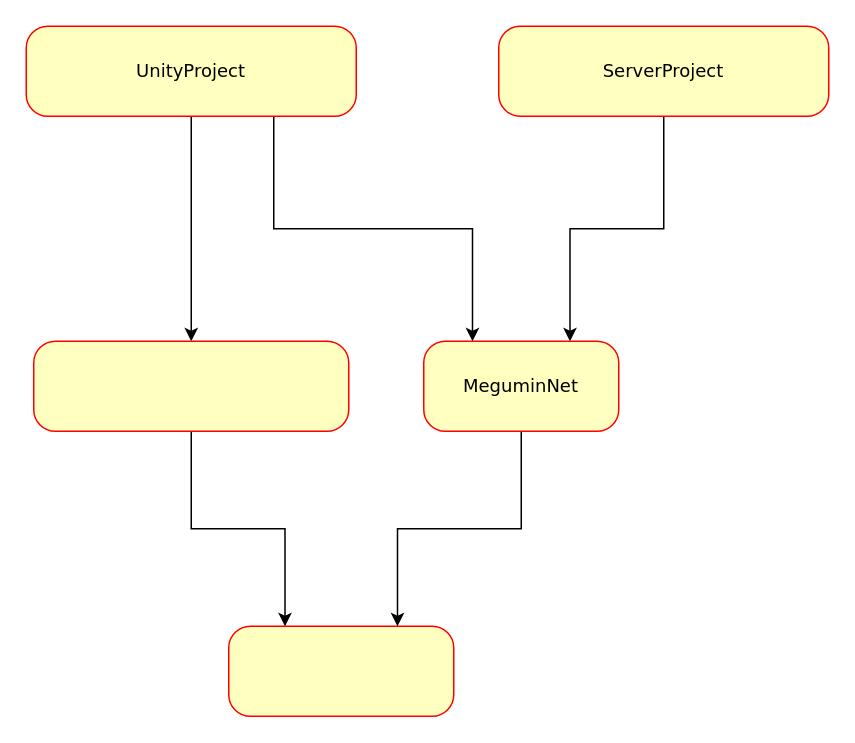
Image size: 855x743. Some labels were removed from this diagram. Each missing label, with the centre of its shape:
"Megumin.Explosion" belongs at (340,670).
"Megumin.Explosion4Unity" belongs at (190,385).
